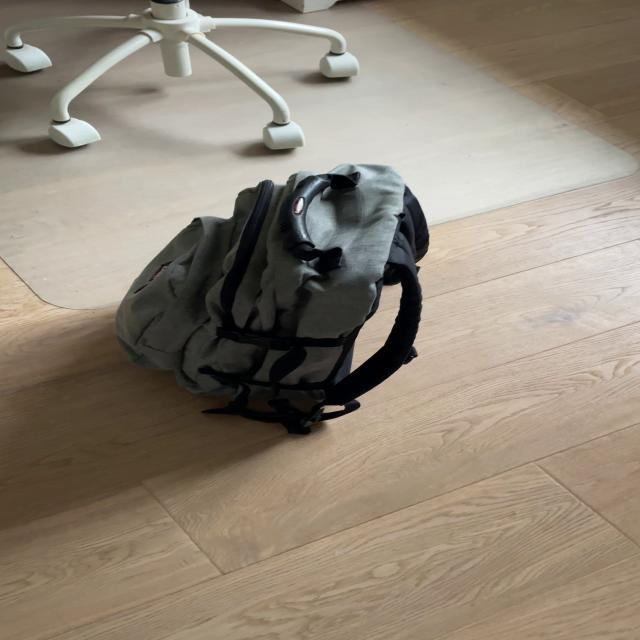backpack: (100, 153, 439, 439)
